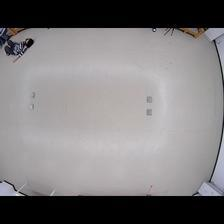fall: (3, 36, 35, 63)
